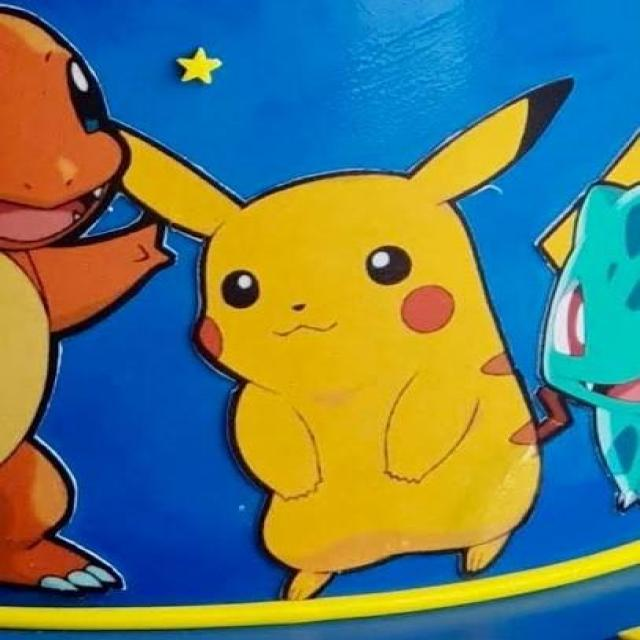pikachu: (99, 74, 579, 599)
